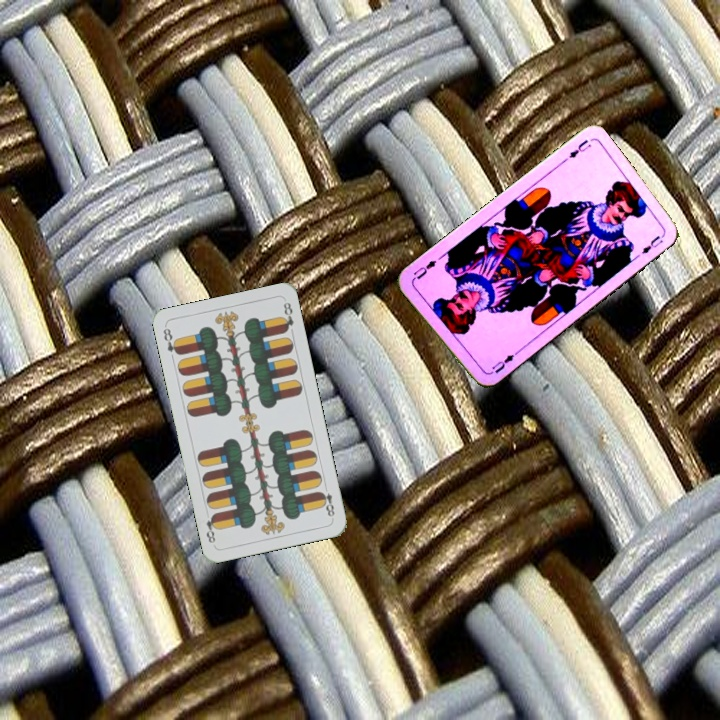E8: (316, 481, 337, 521), (159, 324, 182, 358)
EU: (488, 348, 519, 376), (564, 135, 594, 161)
